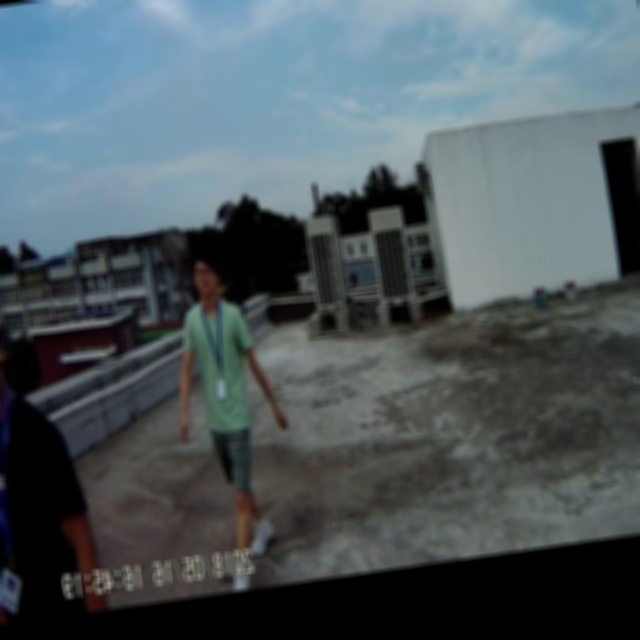Sin_Chaleco: (181, 296, 258, 433)
